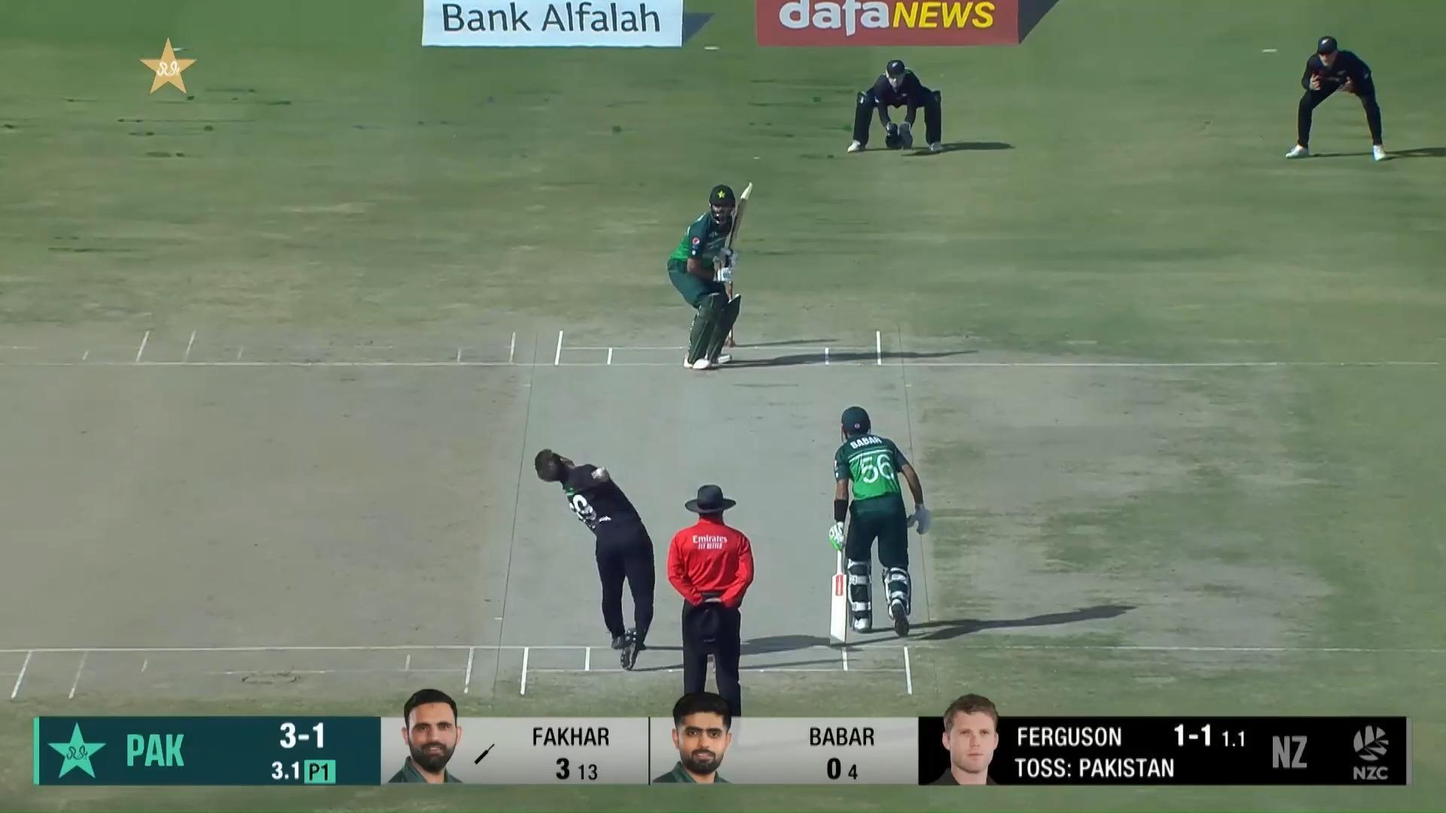BM 1: (665, 177, 756, 371)
BO: (534, 448, 658, 673)
